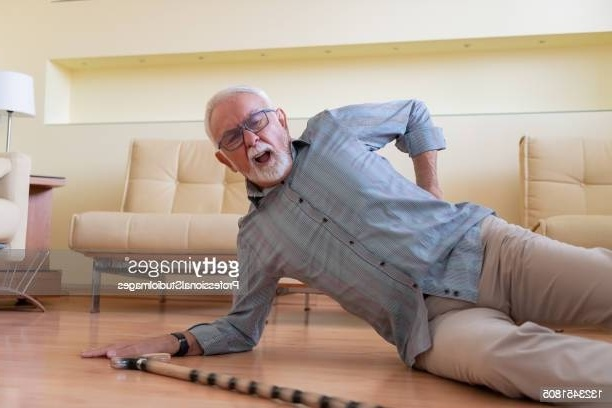fall: (113, 64, 610, 407)
